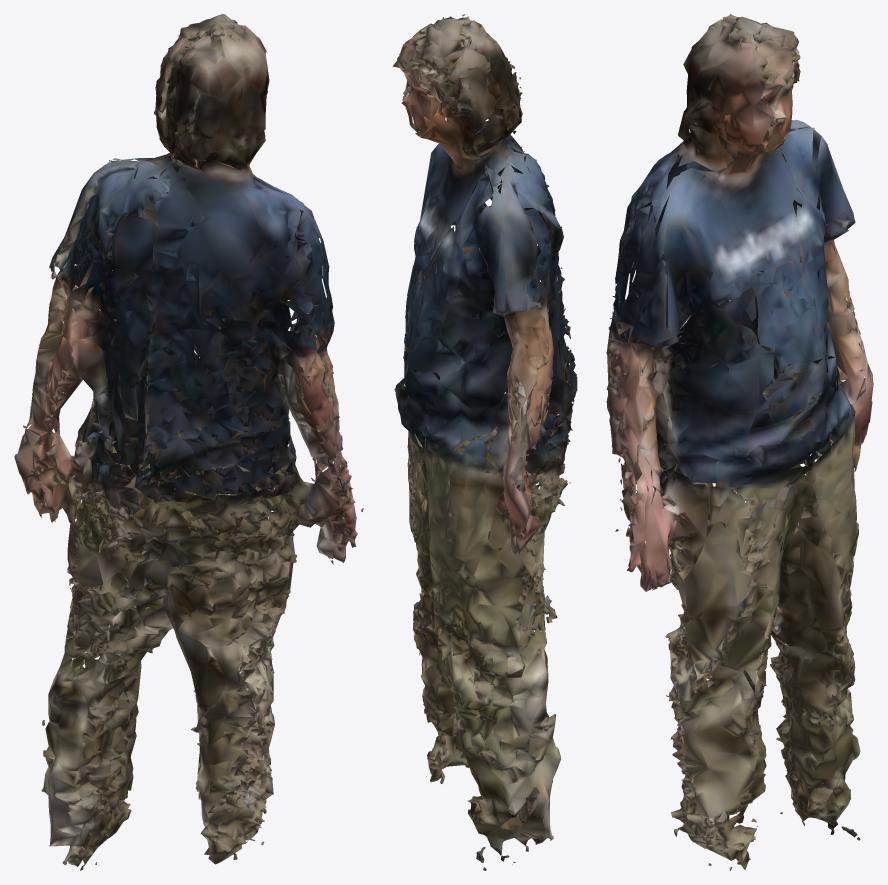
File: andrew_nakas_lowpoly.glb
3 renders of one model, left to right at view 1: azimuth 30°, elevation 25°; view 2: azimuth 150°, elevation 25°; view 3: azimuth 270°, elevation 25°, orthographic. The views are drawn at different scales.
Visible parts, largest first — view 1: Object_5, Object_4, Object_6, Object_3, Object_2, Object_7; view 2: Object_3, Object_5, Object_4, Object_2, Object_6, Object_7; view 3: Object_5, Object_6, Object_3, Object_4, Object_2, Object_7.
Part boxes in pixels (x1,y1,x2,y2): Object_5: (30,14,363,864); Object_4: (14,160,357,566); Object_6: (31,107,343,488); Object_3: (60,342,352,716); Object_2: (41,634,274,870); Object_7: (23,402,351,500); Object_3: (405,368,557,680); Object_5: (392,14,570,862); Object_4: (407,180,570,556); Object_2: (413,611,561,870); Object_6: (394,95,577,474); Object_7: (401,387,572,485); Object_5: (610,14,857,870); Object_6: (606,109,866,496); Object_3: (631,357,858,716); Object_4: (606,128,873,588); Object_2: (668,623,860,869); Object_7: (620,365,872,504).
Bounding box in the file's own units: 2.78 × 9.75 × 2.72.
1 material, 1 textured.
